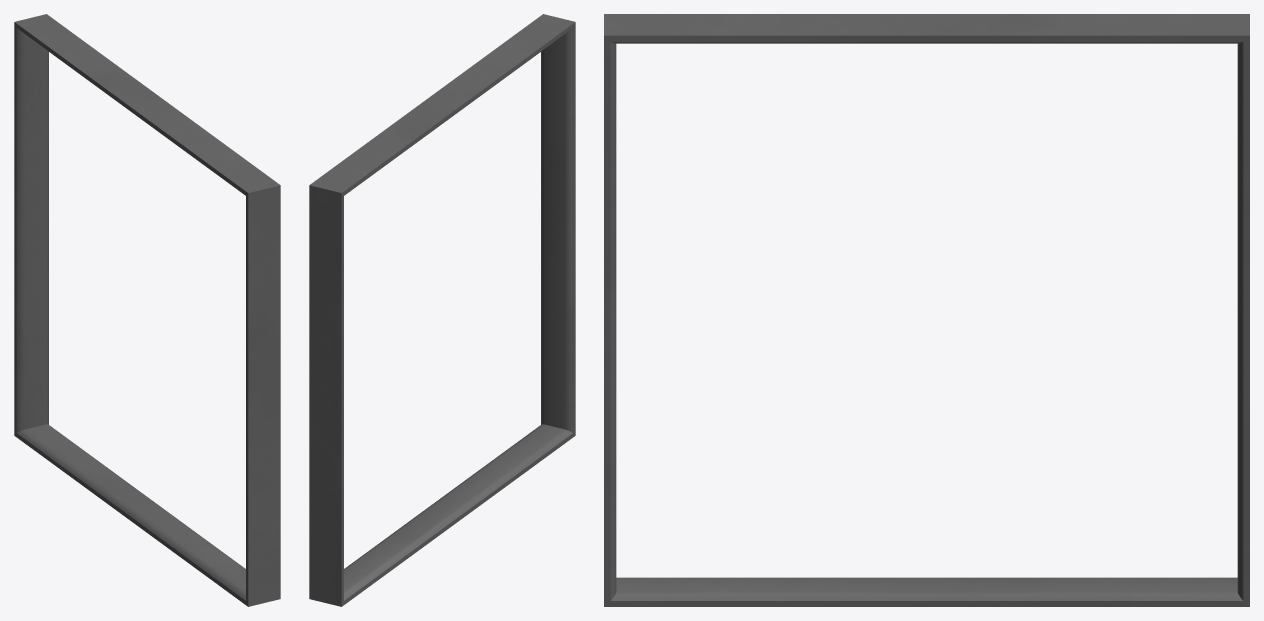
The model's file is doorBalconyFrame1.gltf.
The picture shows the model from 3 angles, left to right: view 1: azimuth 30°, elevation 25°; view 2: azimuth 150°, elevation 25°; view 3: azimuth 270°, elevation 25°; orthographic projection. The views are drawn at different scales.
Parts seen in each view (by area): view 1: doorBalcony; view 2: doorBalcony; view 3: doorBalcony.
Part boxes in pixels (bbox=[...]): doorBalcony: bbox=[14, 14, 280, 606]; doorBalcony: bbox=[309, 14, 575, 606]; doorBalcony: bbox=[604, 14, 1249, 606].
Size of the model in its own units: 0.1398 by 1.71 by 1.75.
Materials: 1 (1 with a texture image).
